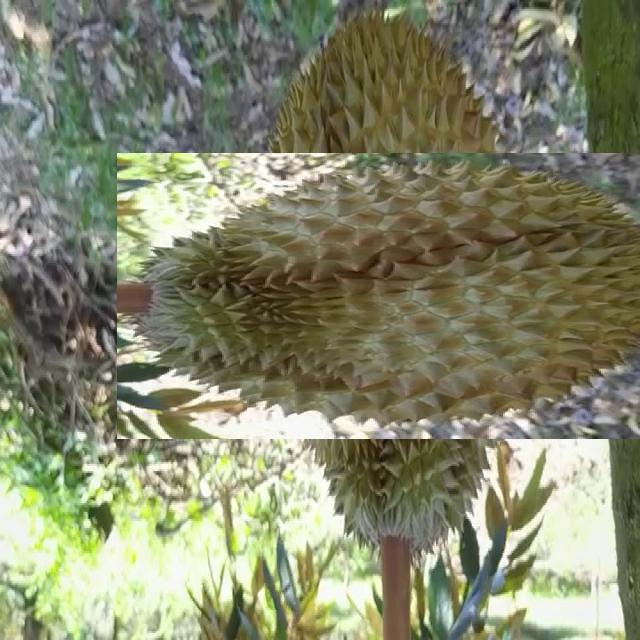durian: (184, 87, 602, 505)
